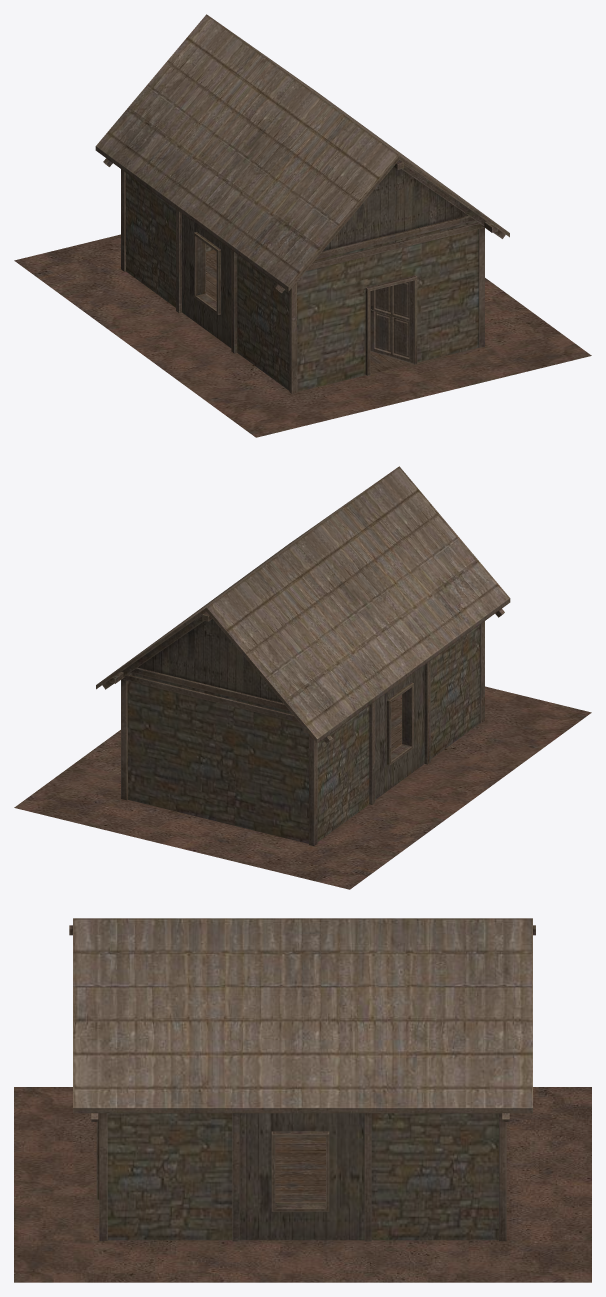
The model's file is house_cottage.glb.
The picture shows the model from 3 angles, top to bottom: view 1: azimuth 30°, elevation 25°; view 2: azimuth 150°, elevation 25°; view 3: azimuth 270°, elevation 25°; orthographic projection. The views are drawn at different scales.
Visible parts, largest first — view 1: Wooden_House_sub_House, Wooden_House_sub_Wood; view 2: Wooden_House_sub_House, Wooden_House_sub_Wood; view 3: Wooden_House_sub_House, Wooden_House_sub_Wood.
Part boxes in pixels (bbox=[...]): Wooden_House_sub_House: bbox=[14, 173, 591, 437]; Wooden_House_sub_Wood: bbox=[95, 14, 509, 393]; Wooden_House_sub_House: bbox=[14, 625, 591, 889]; Wooden_House_sub_Wood: bbox=[96, 466, 510, 846]; Wooden_House_sub_House: bbox=[14, 1087, 591, 1282]; Wooden_House_sub_Wood: bbox=[69, 918, 535, 1241].
Size of the model in its own units: 8168 by 5216 by 10199.
Materials: 2 (2 with a texture image).
